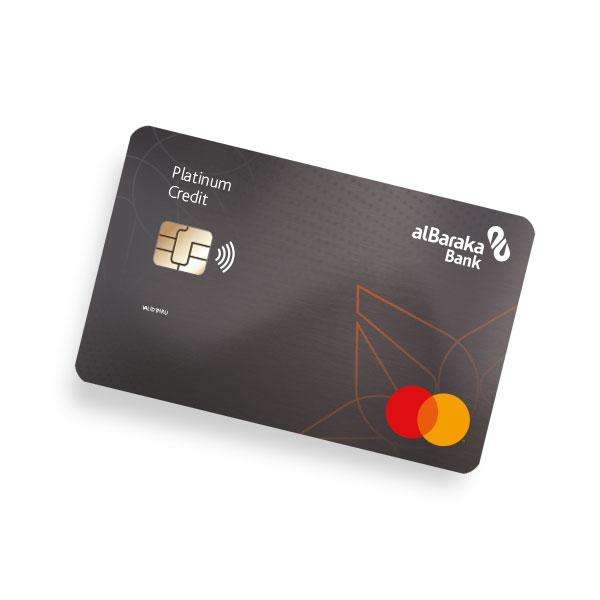Credit_card: (76, 127, 533, 472)
